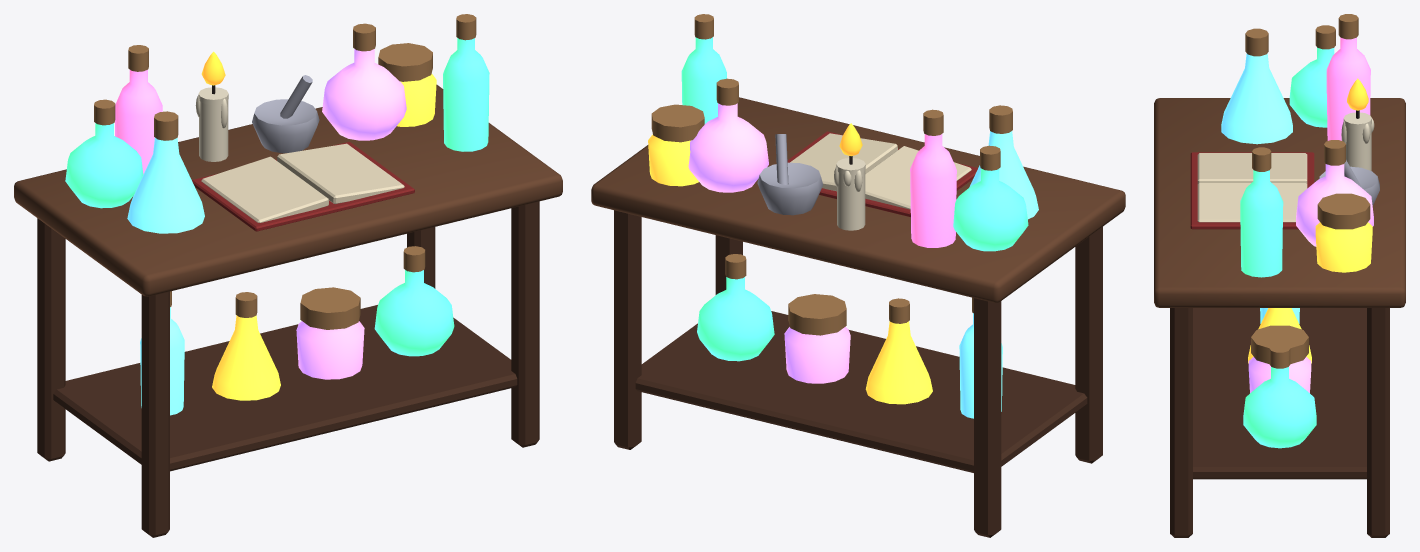
Rendered from magic_potion_table.glb.
3 renders of one model, left to right at view 1: azimuth 30°, elevation 25°; view 2: azimuth 150°, elevation 25°; view 3: azimuth 270°, elevation 25°, orthographic. The views are drawn at different scales.
Parts seen in each view (by area): view 1: magic_potion_table; view 2: magic_potion_table; view 3: magic_potion_table.
Boxes of the visible parts, x1,y1,x2,y2 form: magic_potion_table: (14,14,562,537); magic_potion_table: (591,14,1125,537); magic_potion_table: (1154,14,1405,537).
Bounding box in the file's own units: 1 × 0.915 × 0.55.
